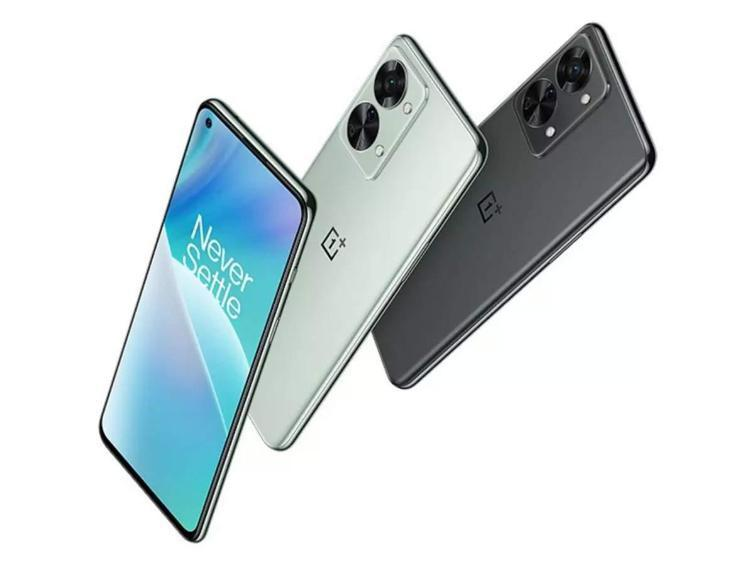Smartphone: (374, 24, 687, 419), (226, 32, 497, 442), (91, 83, 292, 546)
